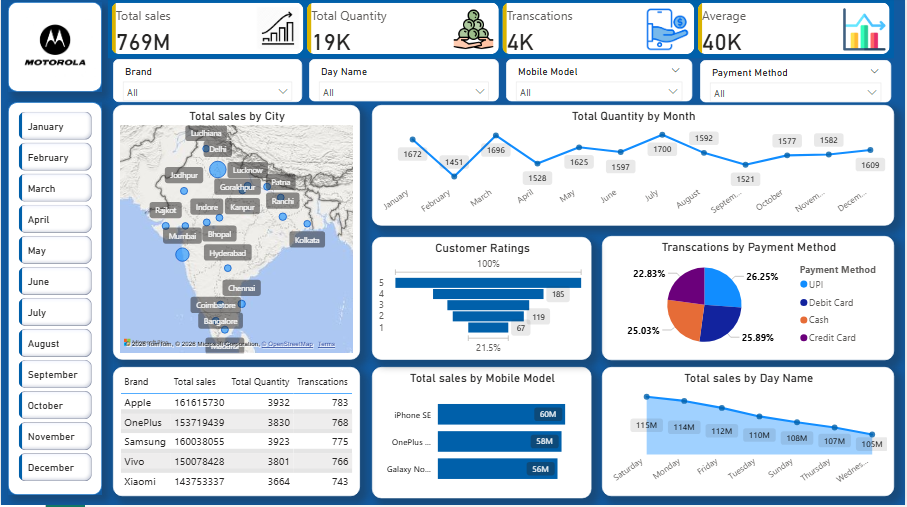

Layout of this report page (visuals, bound fields, positions):
{"tool":"powerbi","page":{"name":"Page 1","canvas":[1280,720],"ordinal":0},"visuals":[{"type":"group","id":"g1","title":"Group 1","box":[10,7.1,128.6,127.1],"z":0},{"type":"shape","box":[10,7.1,132.9,127.1],"z":0,"group":"g1"},{"type":"shape","box":[10,148.6,133.2,557],"z":0,"group":"g2"},{"type":"image","box":[14.1,15.1,124.7,112.3],"z":1000,"group":"g1"},{"type":"group","id":"g2","title":"Group 2","box":[10,148.6,132.9,557.1],"z":1000},{"type":"cardVisual","fields":{"Data":["sales_data.Total sales","sales_data.Total Quantity","sales_data.Transcations","sales_data.Average"]},"box":[151.7,2.8,1114,83.6],"z":2000},{"type":"advancedSlicerVisual","fields":{"Values":["sales_data.Date.Variation.Date Hierarchy.Month"]},"box":[20,157.1,114.6,538.6],"z":2000,"group":"g2"},{"type":"map","fields":{"Category":["sales_data.City"],"Size":["sales_data.Total sales"]},"box":[158.6,152.9,350,361.4],"z":3000},{"type":"lineChart","fields":{"Category":["sales_data.Date.Variation.Date Hierarchy.Month","sales_data.Date.Variation.Date Hierarchy.Day"],"Y":["sales_data.Total Quantity"]},"box":[525.7,152.9,740,171.4],"z":4000},{"type":"clusteredBarChart","fields":{"Category":["sales_data.Mobile Model"],"Y":["sales_data.Total sales"]},"box":[525.7,524.3,311.4,185.7],"z":5000},{"type":"pieChart","fields":{"Category":["sales_data.Payment Method"],"Y":["sales_data.Transcations"]},"box":[851.4,338.6,414.3,175.7],"z":6000},{"type":"funnel","title":"Customer Ratings ","fields":{"Category":["sales_data.Customer Ratings"],"Y":["CountNonNull(sales_data.Customer Ratings)"]},"box":[525.7,340,311.4,174.3],"z":7000},{"type":"stackedAreaChart","fields":{"Category":["sales_data.Day Name"],"Y":["sales_data.Total sales"]},"box":[851.4,524.3,414.3,182.9],"z":8000},{"type":"tableEx","fields":{"Values":["sales_data.Brand","sales_data.Total sales","sales_data.Total Quantity","sales_data.Transcations"]},"box":[158.6,524.3,350,182.9],"z":9000},{"type":"slicer","fields":{"Values":["sales_data.Brand"]},"box":[158.7,87.9,267.9,60.9],"z":10000},{"type":"slicer","fields":{"Values":["sales_data.Day Name"]},"box":[436.5,87.9,269.3,59.5],"z":10001},{"type":"slicer","fields":{"Values":["sales_data.Mobile Model"]},"box":[715.7,87.9,263.6,59.5],"z":10002},{"type":"slicer","fields":{"Values":["sales_data.Payment Method"]},"box":[990.7,89.3,270.7,59.5],"z":10003}]}

Visuals, with their boxes in screenshot pixels (x1, y1, x2, y2), scaled from the page's 1280x720 canvas onto the 907x507 screenshot:
"Group 1" group: left=7, top=5, right=98, bottom=94
shape: left=7, top=5, right=101, bottom=94
shape: left=7, top=105, right=101, bottom=497
image: left=10, top=11, right=98, bottom=90
"Group 2" group: left=7, top=105, right=101, bottom=497
cardVisual - sales_data.Total sales x sales_data.Total Quantity: left=107, top=2, right=897, bottom=61
advancedSlicerVisual - sales_data.Date.Variation.Date Hierarchy.Month: left=14, top=111, right=95, bottom=490
map - sales_data.City x sales_data.Total sales: left=112, top=108, right=360, bottom=362
lineChart - sales_data.Date.Variation.Date Hierarchy.Month x sales_data.Date.Variation.Date Hierarchy.Day: left=373, top=108, right=897, bottom=228
clusteredBarChart - sales_data.Mobile Model x sales_data.Total sales: left=373, top=369, right=593, bottom=500
pieChart - sales_data.Payment Method x sales_data.Transcations: left=603, top=238, right=897, bottom=362
"Customer Ratings " funnel: left=373, top=239, right=593, bottom=362
stackedAreaChart - sales_data.Day Name x sales_data.Total sales: left=603, top=369, right=897, bottom=498
tableEx - sales_data.Brand x sales_data.Total sales: left=112, top=369, right=360, bottom=498
slicer - sales_data.Brand: left=112, top=62, right=302, bottom=105
slicer - sales_data.Day Name: left=309, top=62, right=500, bottom=104
slicer - sales_data.Mobile Model: left=507, top=62, right=694, bottom=104
slicer - sales_data.Payment Method: left=702, top=63, right=894, bottom=105
